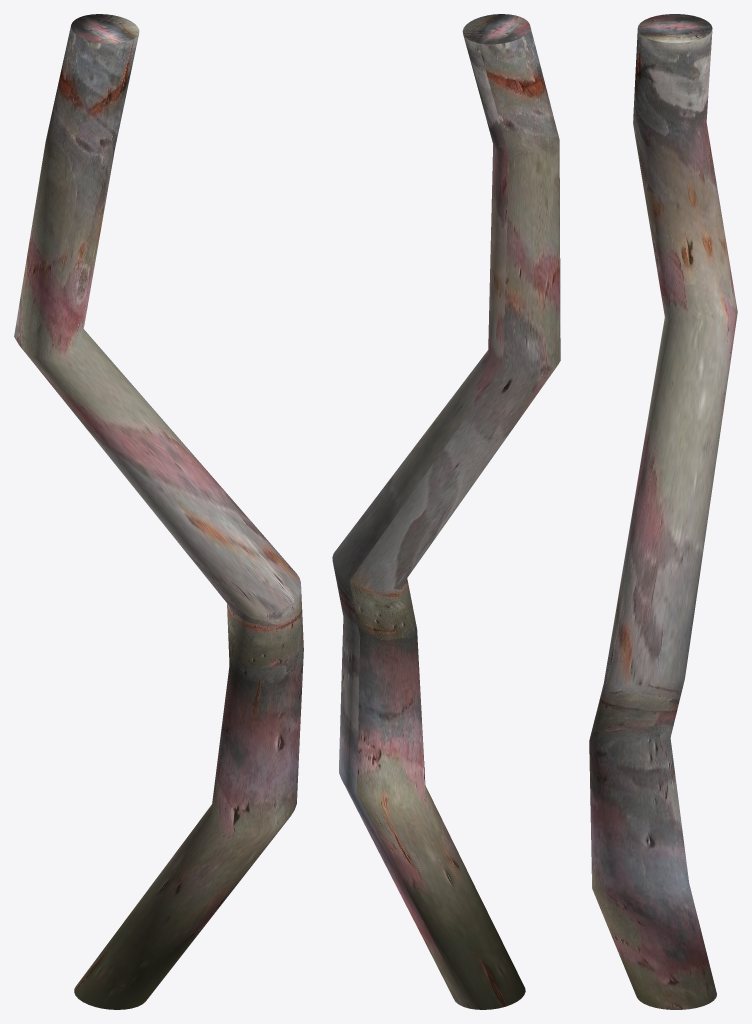
File: branch_c3.glb
3 renders of one model, left to right at view 1: azimuth 30°, elevation 25°; view 2: azimuth 150°, elevation 25°; view 3: azimuth 270°, elevation 25°, orthographic.
Visible parts, largest first — view 1: Cylinder.019; view 2: Cylinder.019; view 3: Cylinder.019.
Part boxes in pixels (<box>): Cylinder.019: <box>14,14,303,1009</box>; Cylinder.019: <box>332,14,560,1009</box>; Cylinder.019: <box>589,14,737,1009</box>.
Bounding box in the file's own units: 0.2623 × 1 × 0.1396.
1 material, 1 textured.
